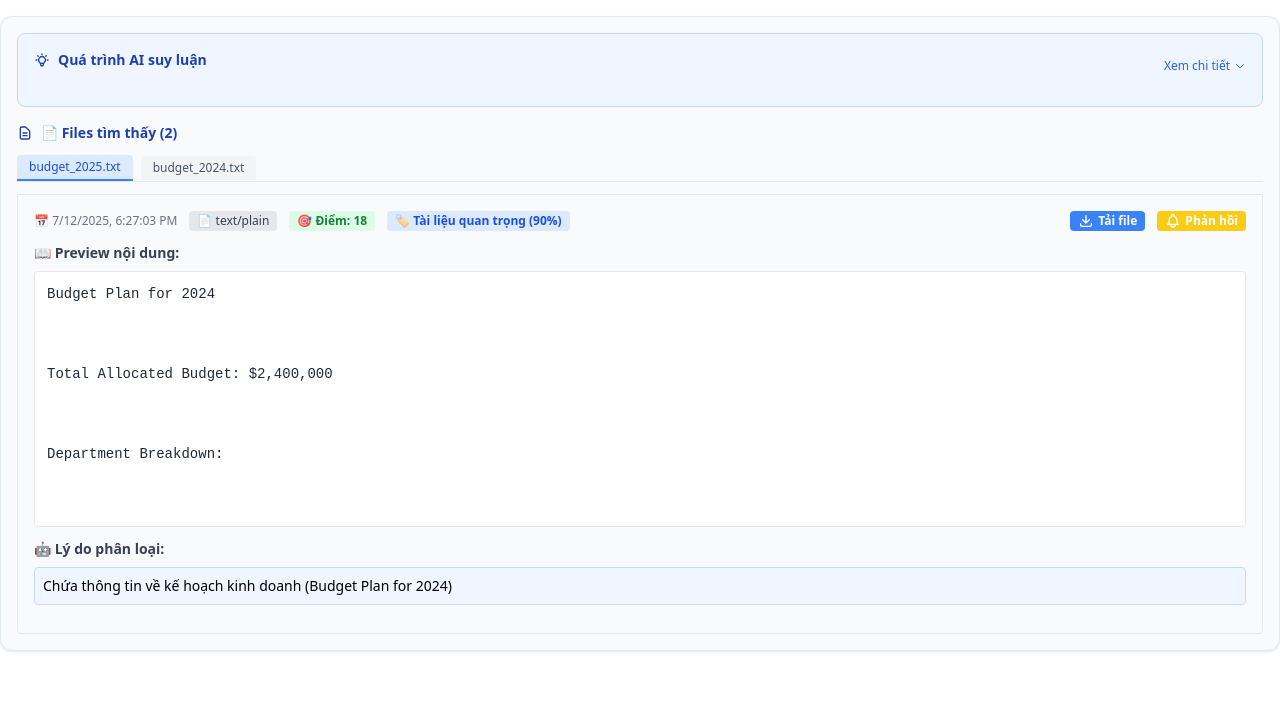
AgenticChatMessage › handles tab switching
Click the button "budget_2024.txt" at (199, 168), box [141,156,256,180]
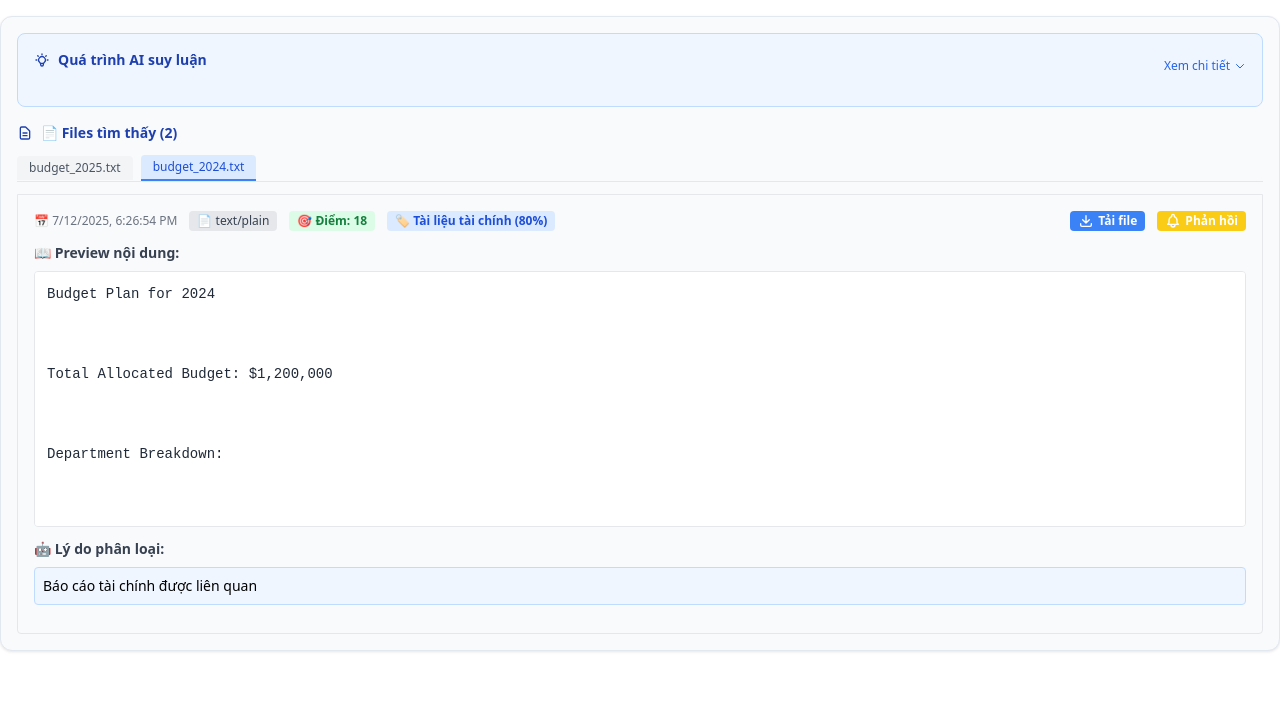
Expected: the text "🏷️ Tài liệu tài chính (80%)" is shown, [387,211,555,231]
